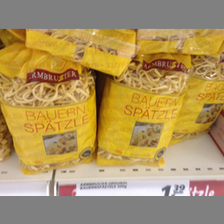pasta: (1, 45, 97, 175), (97, 51, 192, 166)
